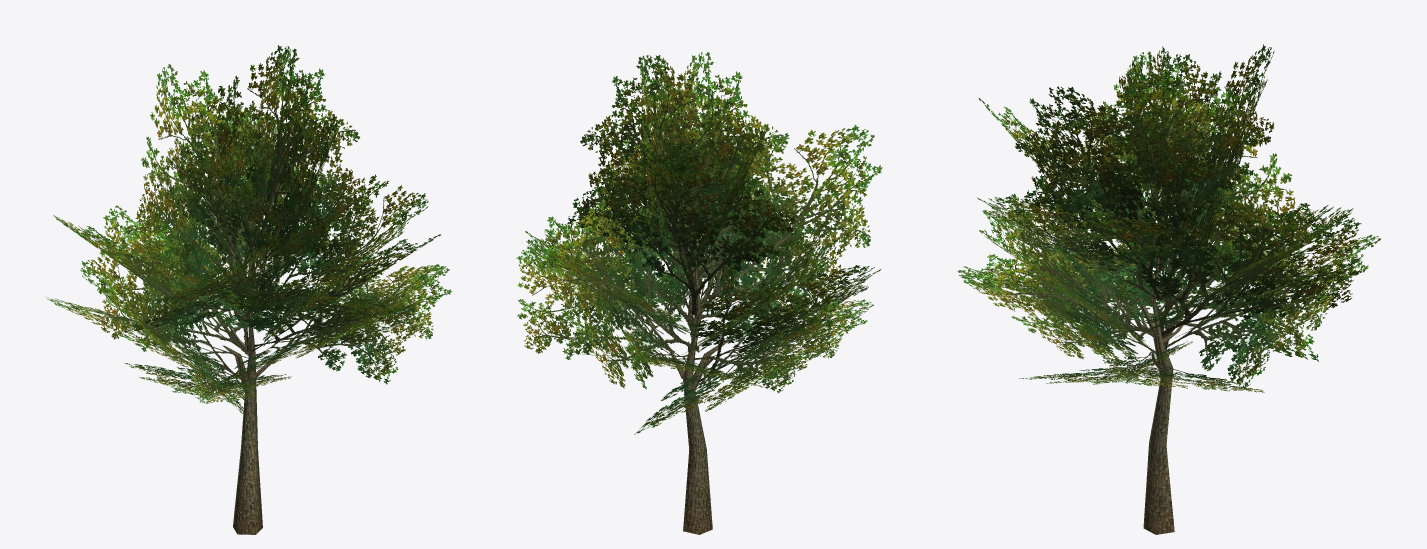
The model's file is tre_tree01_big.static.glb.
3 views of the same model, side by side, from view 1: azimuth 30°, elevation 25°; view 2: azimuth 150°, elevation 25°; view 3: azimuth 270°, elevation 25° (orthographic). The views are drawn at different scales.
Parts seen in each view (by area): view 1: tre_tree01_big, tre_tree01_big_bran; view 2: tre_tree01_big, tre_tree01_big_bran; view 3: tre_tree01_big, tre_tree01_big_bran.
Boxes of the visible parts, x1=… form: tre_tree01_big: x1=46, y1=45, x2=451, y2=415; tre_tree01_big_bran: x1=222, y1=259, x2=302, y2=534; tre_tree01_big: x1=516, y1=52, x2=882, y2=434; tre_tree01_big_bran: x1=650, y1=260, x2=741, y2=534; tre_tree01_big: x1=957, y1=44, x2=1380, y2=392; tre_tree01_big_bran: x1=1138, y1=240, x2=1193, y2=534.
Size of the model in its own units: 28.08 by 32.78 by 26.99.
2 materials, 2 textured.
